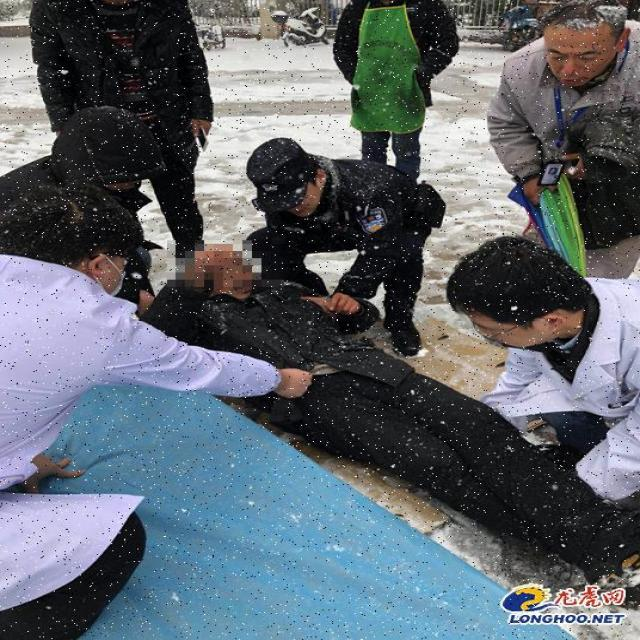fall: (152, 249, 612, 561)
